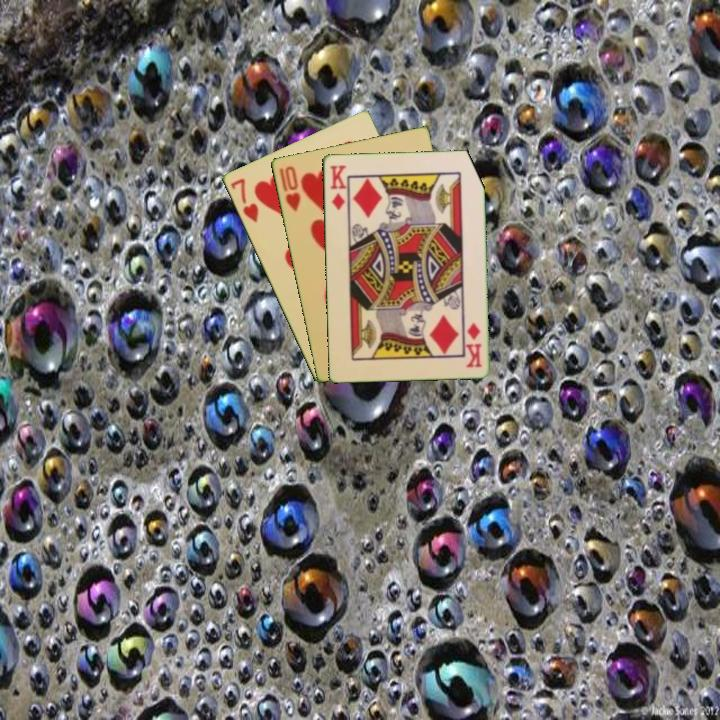10h: (275, 162, 303, 214)
7h: (226, 174, 261, 226)
Kd: (327, 161, 349, 213), (463, 319, 484, 370)
